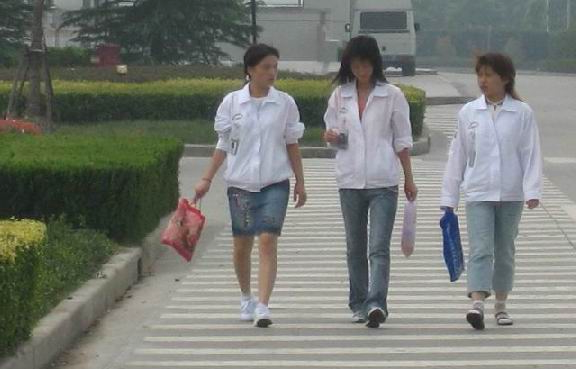pedestrian: (196, 44, 307, 328), (441, 53, 542, 330), (324, 35, 418, 329)
